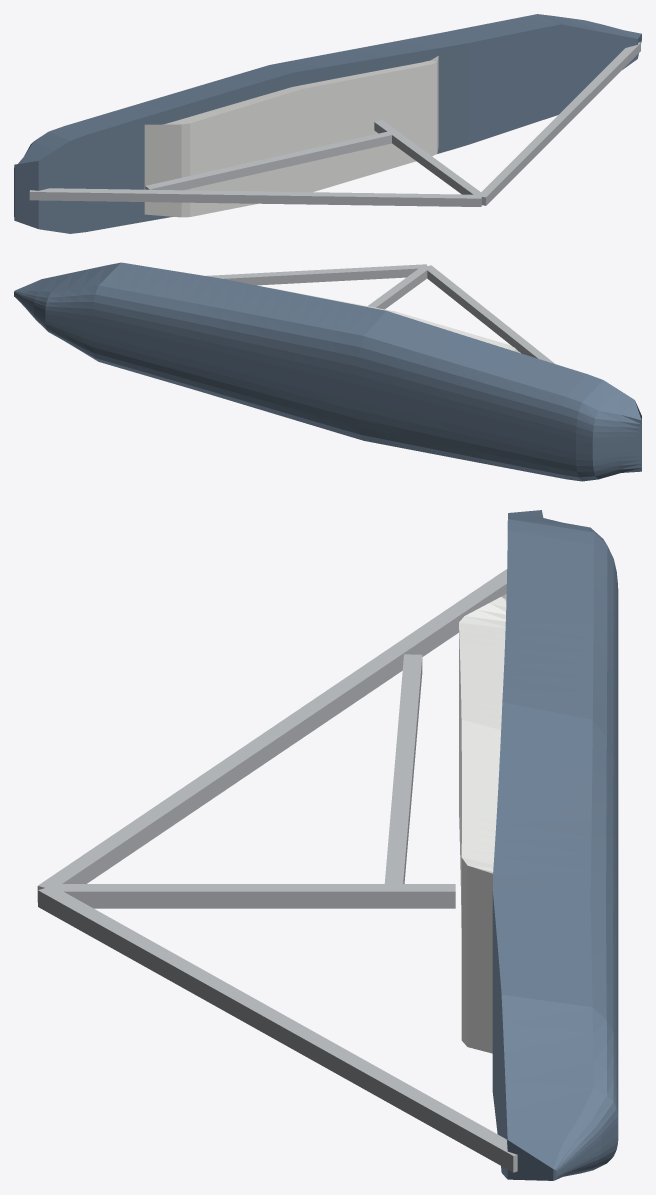
Rendered from sail-large-loft-slender.glb.
3 views of the same model, one above another, from view 1: azimuth 30°, elevation 25°; view 2: azimuth 150°, elevation 25°; view 3: azimuth 270°, elevation 25° (orthographic). The views are drawn at different scales.
Visible parts, largest first — view 1: sail-large-loft-slender; view 2: sail-large-loft-slender; view 3: sail-large-loft-slender.
Boxes of the visible parts, box(x1,y1,x2,y2) form: sail-large-loft-slender: box(14, 14, 641, 233); sail-large-loft-slender: box(14, 262, 641, 481); sail-large-loft-slender: box(37, 510, 618, 1180).
Bounding box in the file's own units: 1.88 × 0.3519 × 0.7574.
